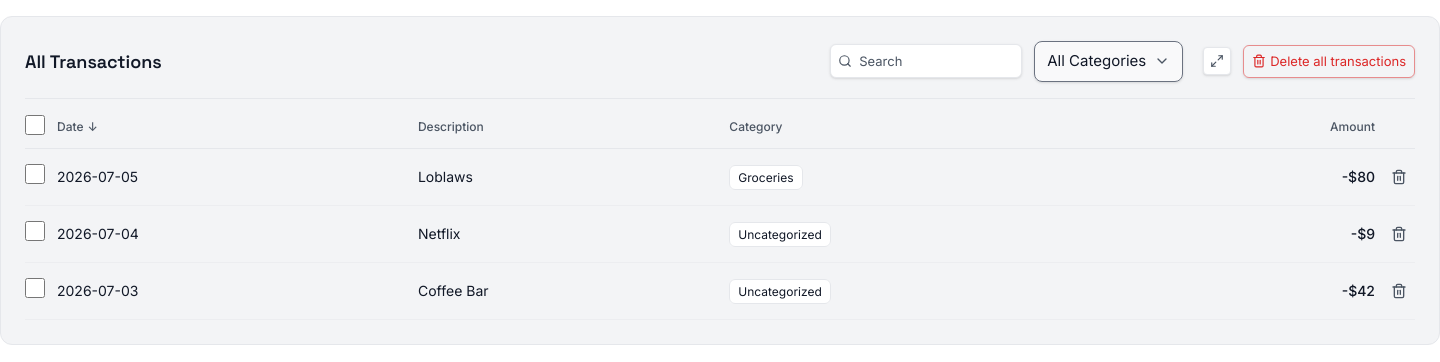
Test: TransactionListWidget search › says so when nothing matches instead of showing an empty table
In the search field named "Search transactions": [926, 61] box [830,44,1022,78], type "zzzz"
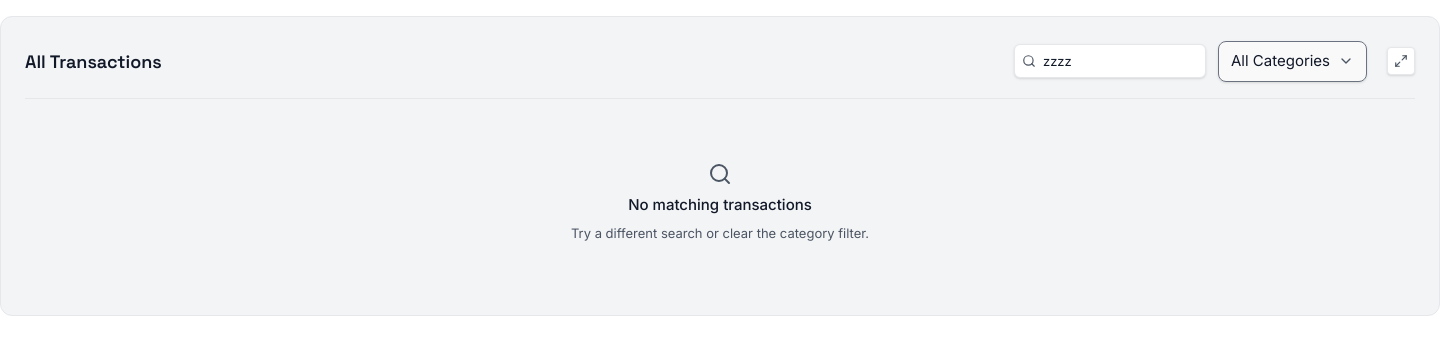
Now the text "No matching transactions" is shown, box [628,194,812,216]
